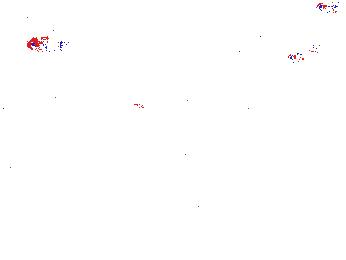X-ray fish: (329, 158, 346, 186)
red belly glassfish: (27, 36, 63, 54), (314, 1, 346, 14), (287, 49, 314, 64)
redtail glassfish: (134, 99, 238, 123), (10, 89, 56, 105), (232, 89, 262, 112)
